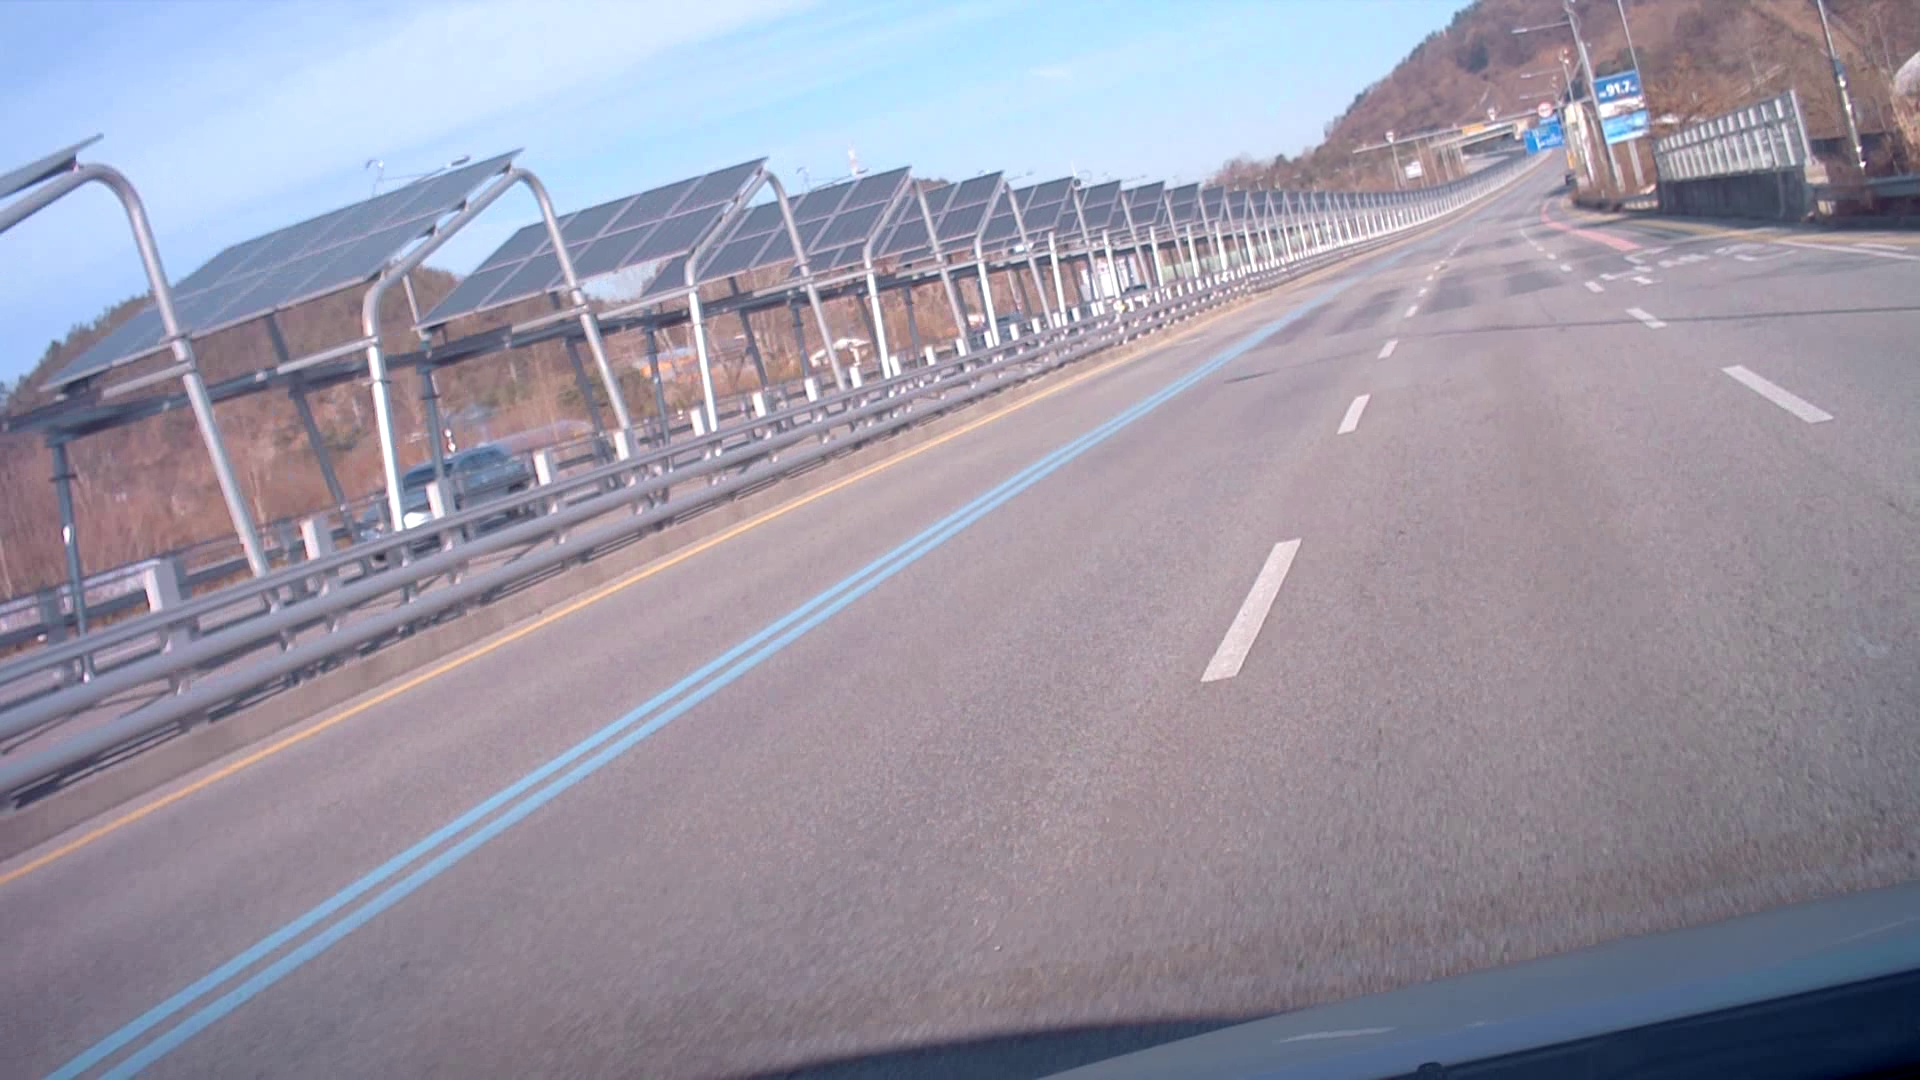trafficSignCircle: (1536, 102, 1556, 119)
